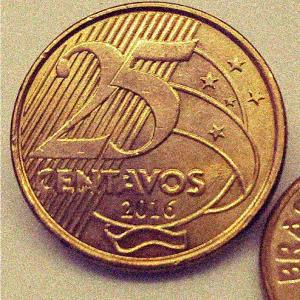25 cent: (8, 0, 287, 272)
